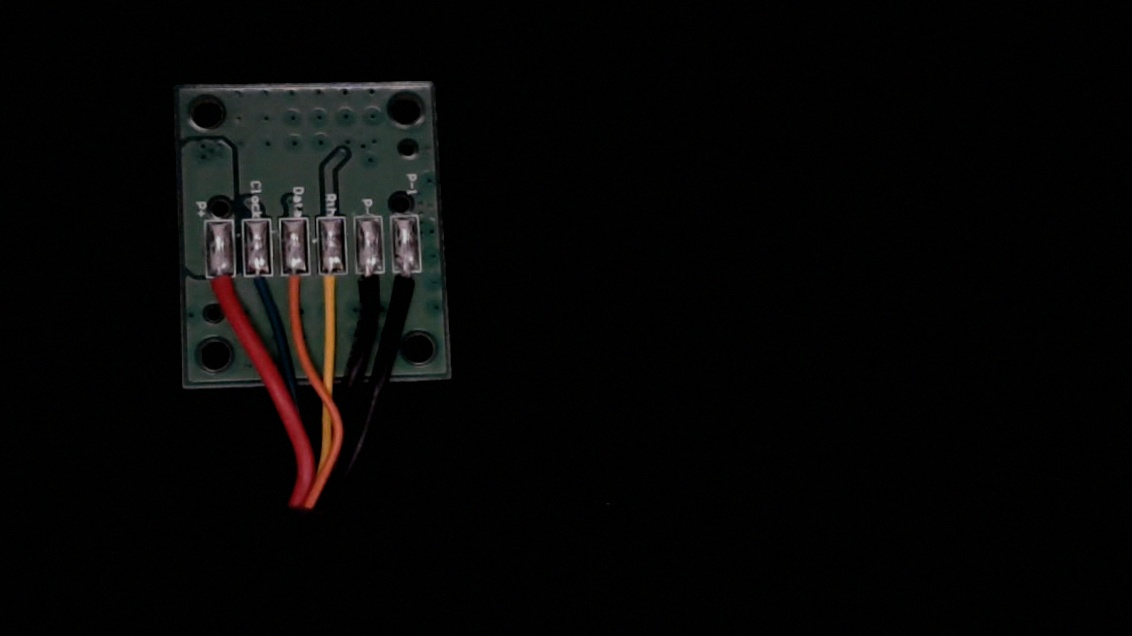Black: (357, 257, 383, 319)
Black1: (392, 257, 422, 309)
Green: (244, 258, 271, 315)
Orange: (281, 259, 309, 314)
Red: (204, 260, 234, 317)
Yellow: (317, 257, 347, 320)
